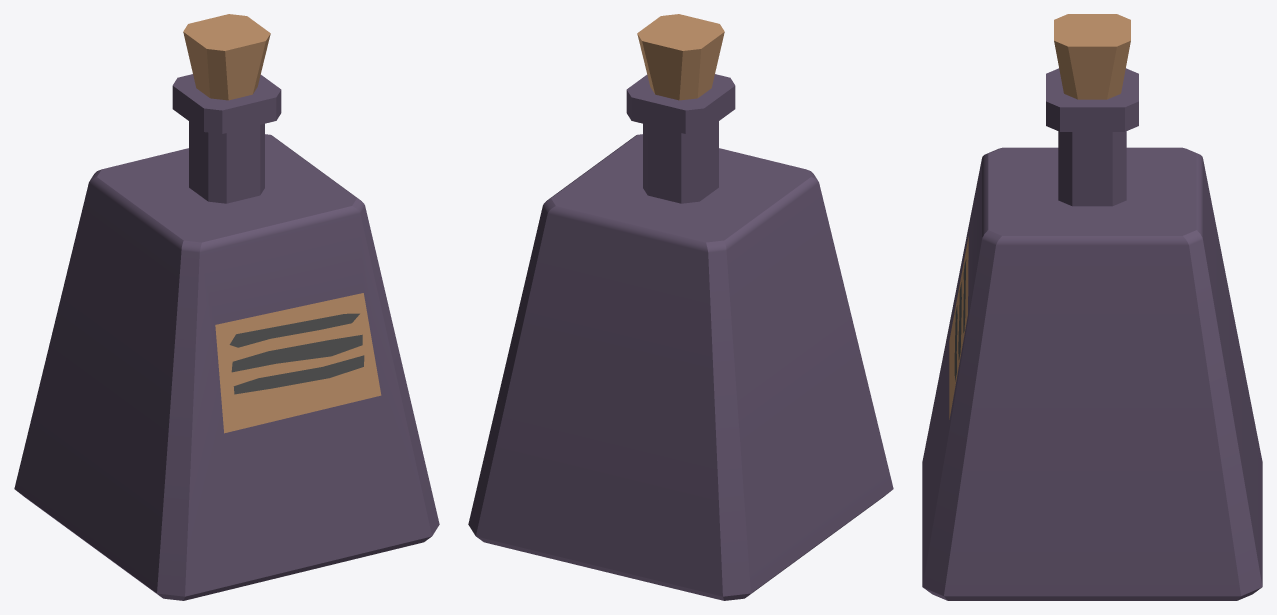
Rendered from Bottle_07.glb.
The picture shows the model from 3 angles, left to right: view 1: azimuth 30°, elevation 25°; view 2: azimuth 150°, elevation 25°; view 3: azimuth 270°, elevation 25°; orthographic projection. The views are drawn at different scales.
Parts seen in each view (by area): view 1: Bottle_07_LOD0; view 2: Bottle_07_LOD0; view 3: Bottle_07_LOD0.
Boxes of the visible parts, x1,y1,x2,y2 form: Bottle_07_LOD0: (14,14,439,600); Bottle_07_LOD0: (468,14,893,600); Bottle_07_LOD0: (922,14,1262,600).
Size of what is drawn, in the model's own units: 0.1539 by 0.2512 by 0.1539.
1 material, 1 textured.
